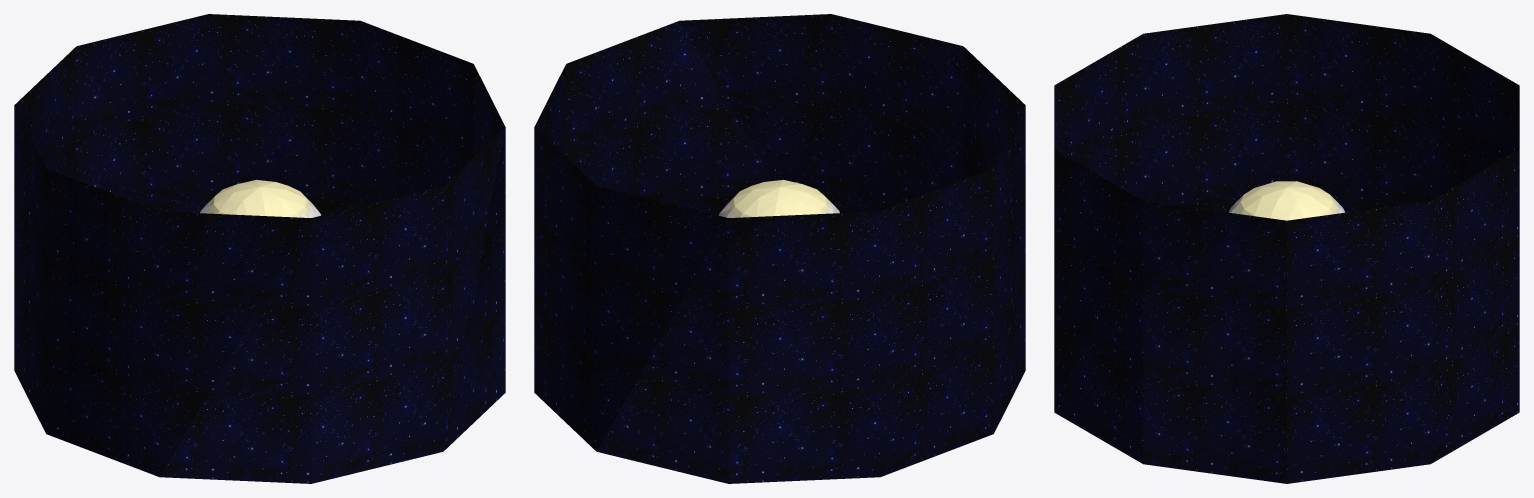
Rendered from Chao Lobby (Version 1).obj.
3 views of the same model, side by side, from view 1: azimuth 30°, elevation 25°; view 2: azimuth 150°, elevation 25°; view 3: azimuth 270°, elevation 25° (orthographic).
Parts seen in each view (by area): view 1: Mesh_0058; view 2: Mesh_0058; view 3: Mesh_0058.
Boxes of the visible parts, x1,y1,x2,y2 form: Mesh_0058: (14, 14, 505, 483); Mesh_0058: (534, 14, 1025, 483); Mesh_0058: (1054, 14, 1519, 483).
Bounding box in the file's own units: 120 × 71.29 × 114.
15 materials, 15 textured.
